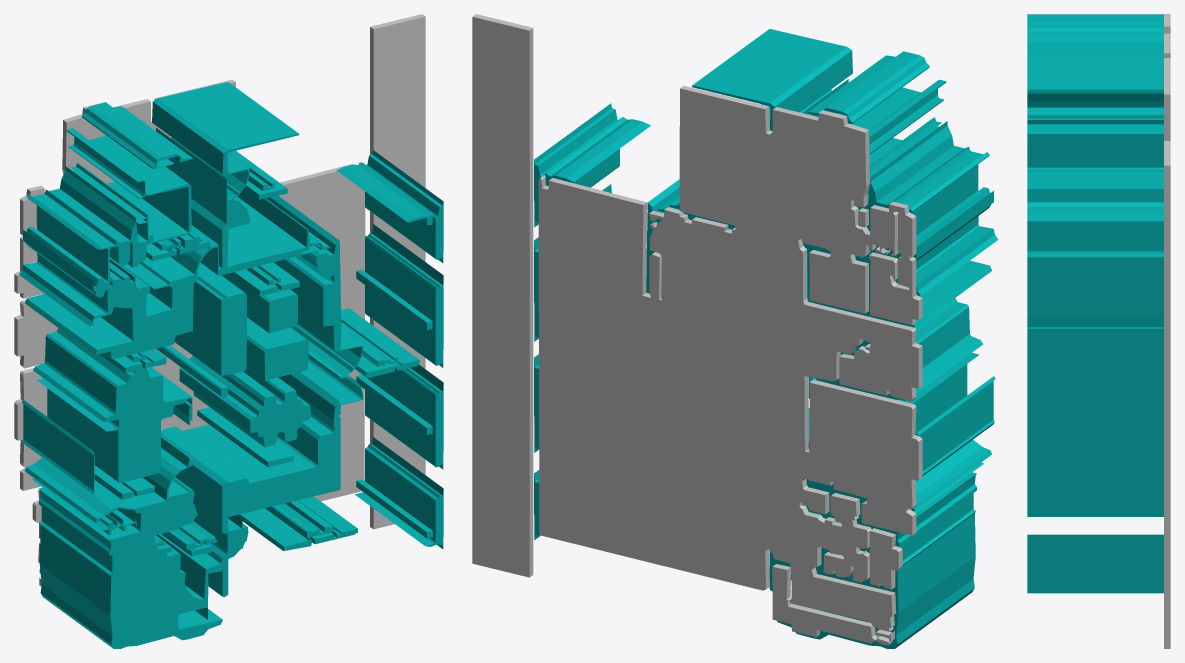
3 views of the same model, side by side, from view 1: azimuth 30°, elevation 25°; view 2: azimuth 150°, elevation 25°; view 3: azimuth 270°, elevation 25° (orthographic). The views are drawn at different scales.
Parts seen in each view (by area): view 1: world; view 2: world; view 3: world.
Boxes of the visible parts, bbox=[...] form: world: bbox=[14, 14, 443, 648]; world: bbox=[472, 14, 998, 648]; world: bbox=[1027, 14, 1170, 648].
Size of the model in its own units: 10 by 11.71 by 3.15.
